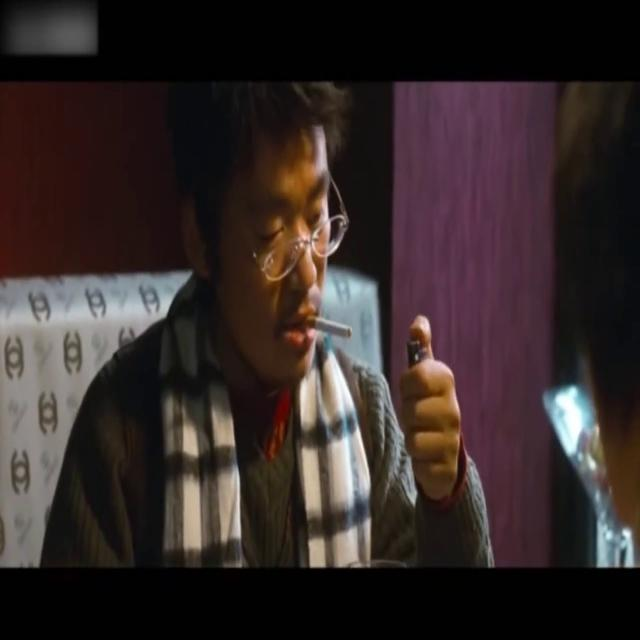smoking: (304, 312, 352, 345)
